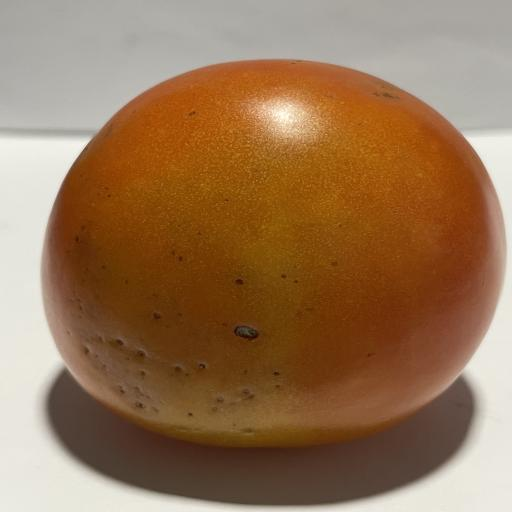ripe: (42, 59, 506, 446)
